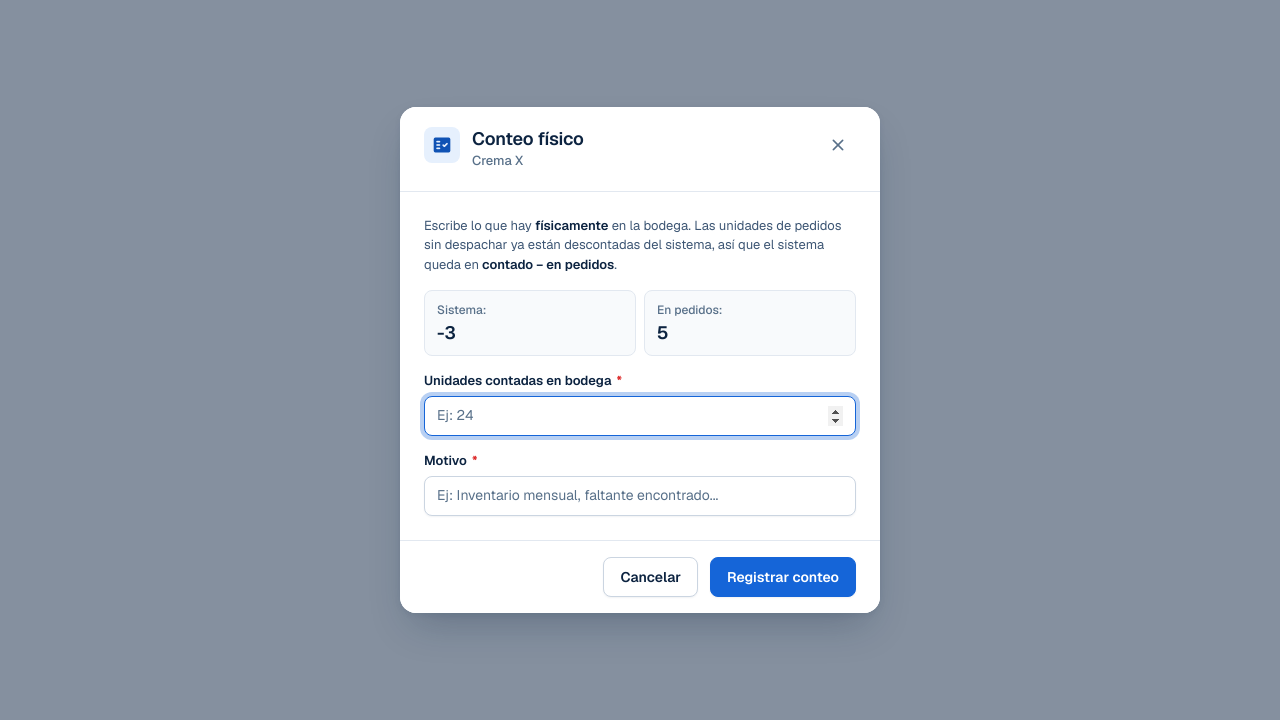
Test: registra lo contado con el motivo y muestra el resultado con la diferencia con signo
The width and height of the screenshot is (1280, 720).
In the number field labelled "Unidades contadas en bodega *": (640, 416) [424,396,856,436], type "4"
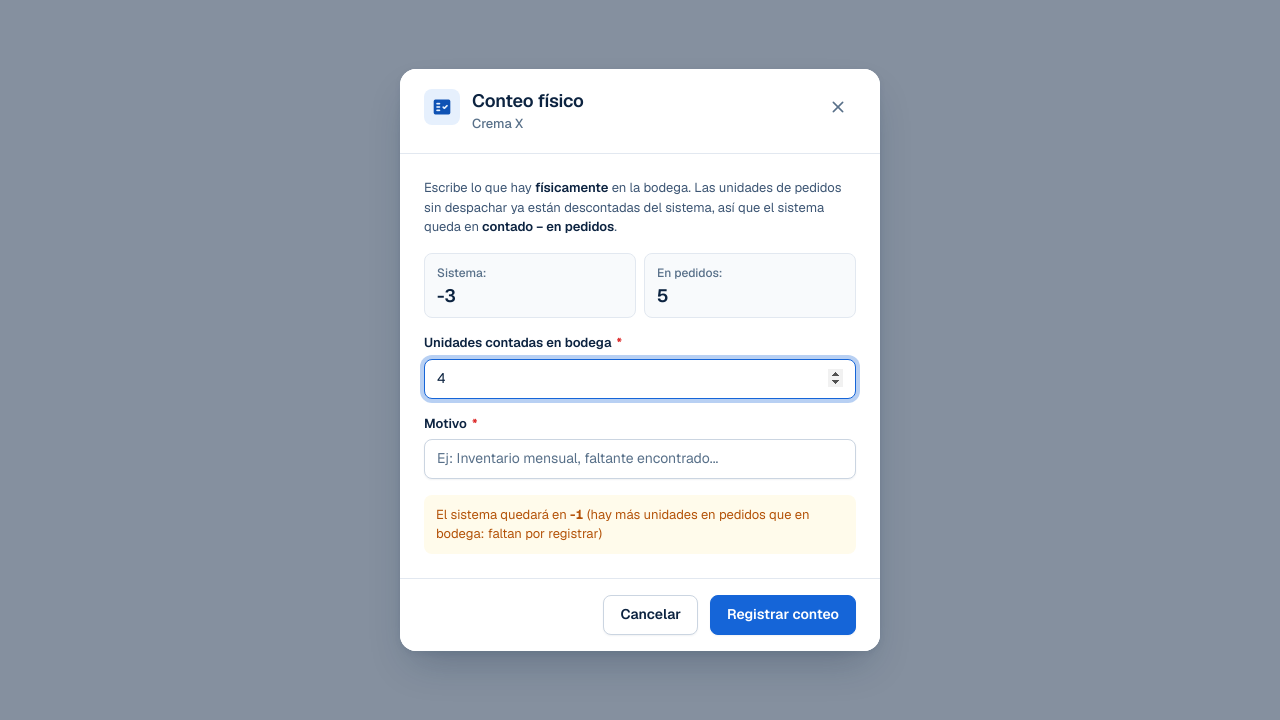
Expected: the text "El sistema quedará en" shows "-1", [570,506,584,523]
In the field labelled "Motivo *": (640, 459) [424,439,856,479], type "  Inventario mensual  "
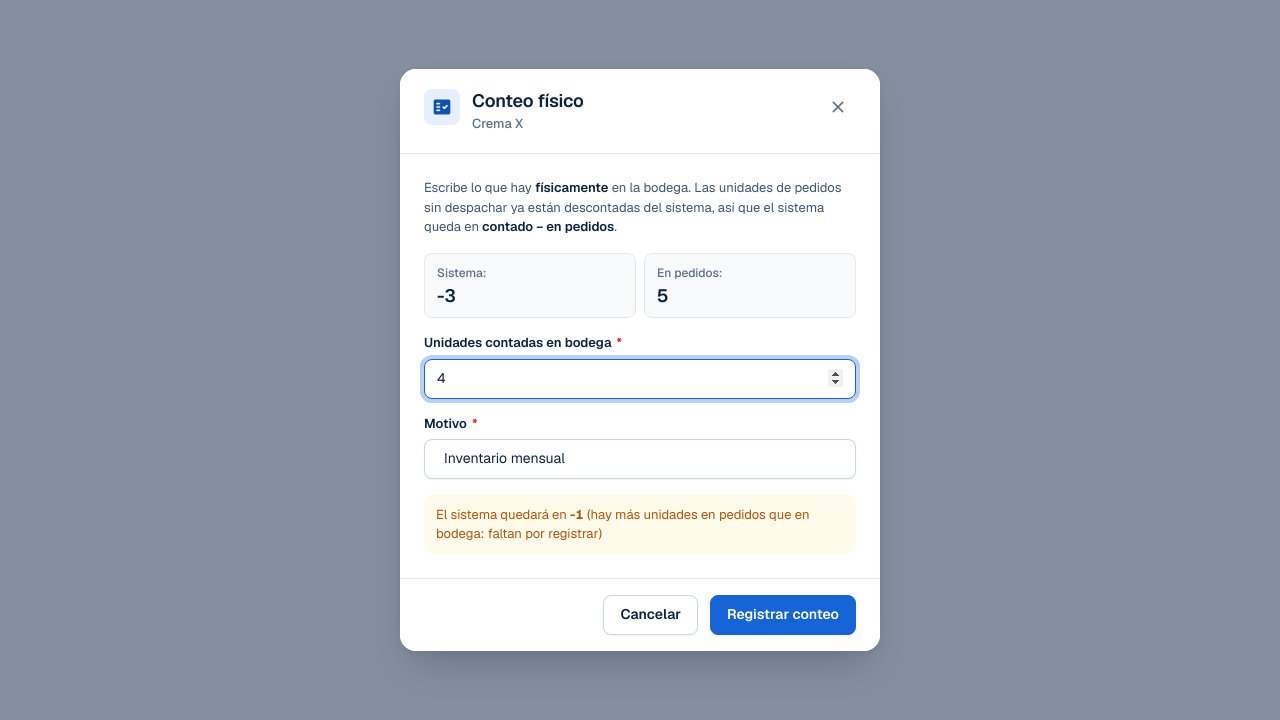
Click the button "Registrar conteo": (783, 615) [710,595,856,635]
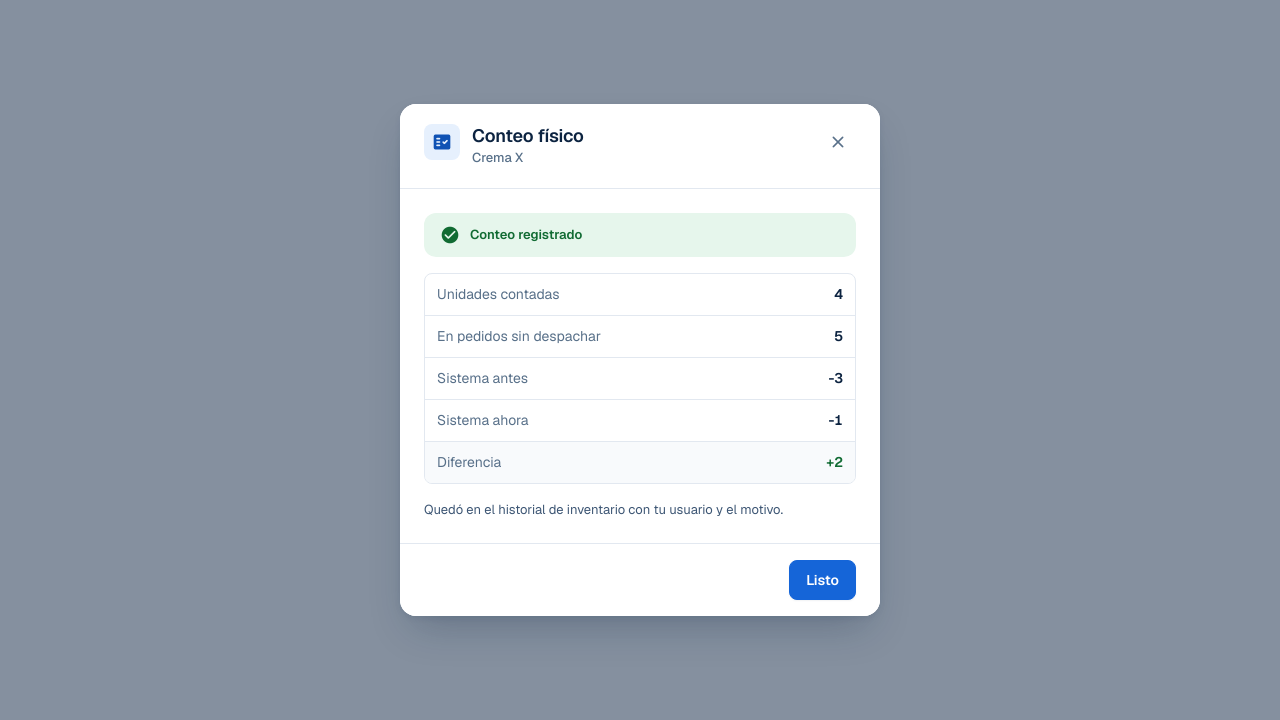
Expected: the text "-1" is shown, [828,410,843,431]
Expected: the text "Conteo registrado" is shown, [424,213,856,257]
Expected: the text "+2" is shown, [826,452,843,473]
